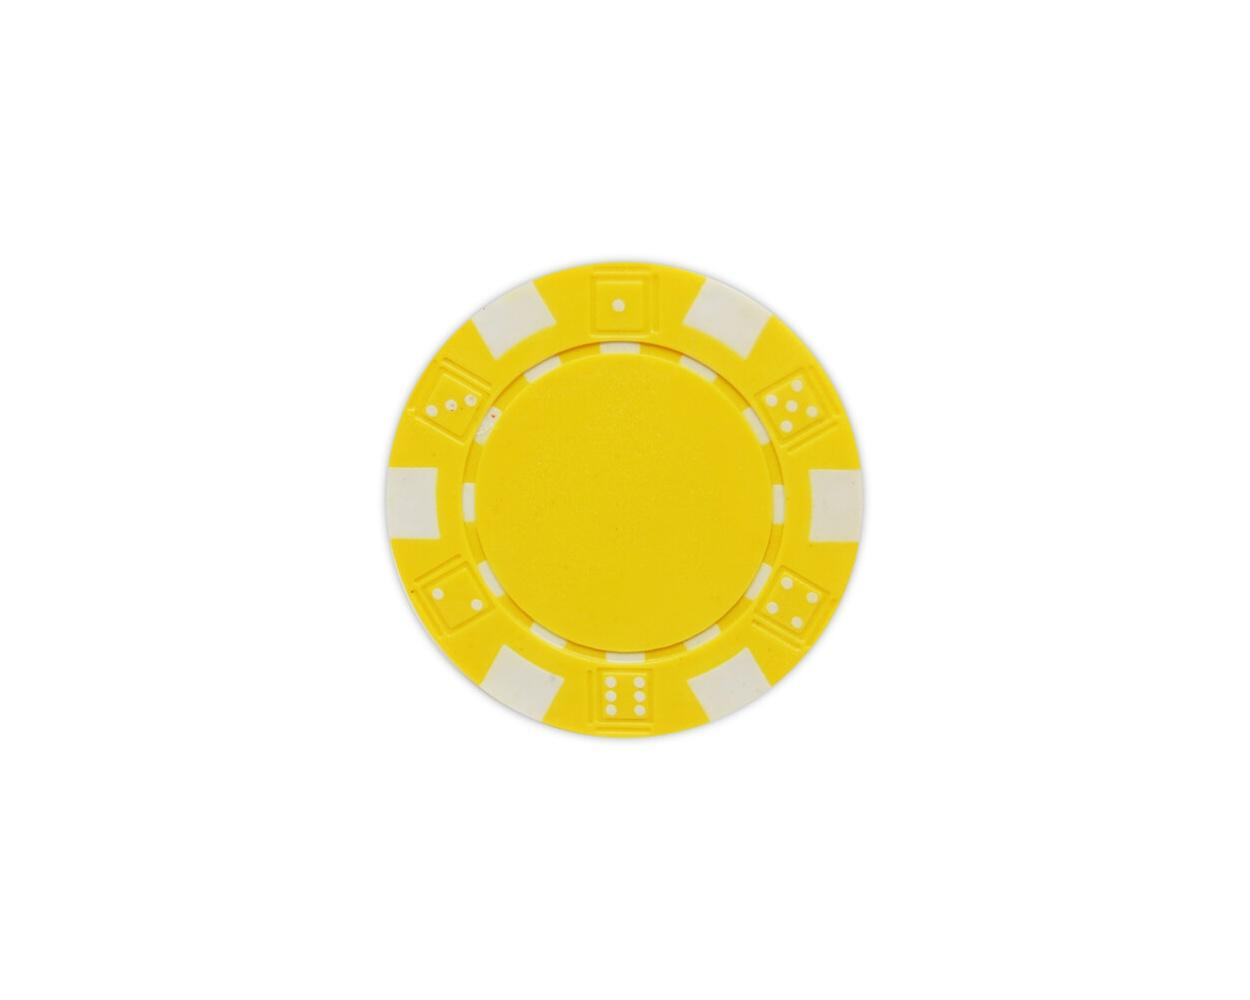chip-yellow: (386, 263, 864, 738)
